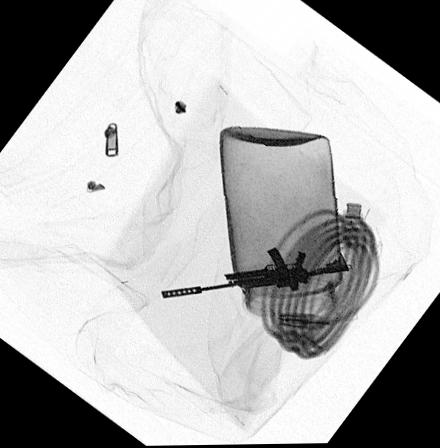Gun: (157, 245, 349, 297)
